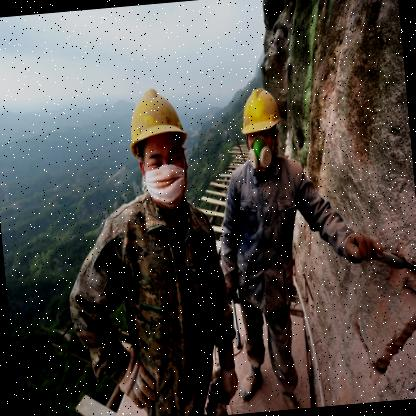capacete: (125, 85, 193, 209), (238, 85, 286, 170)
sem_colete_refletivo: (60, 185, 244, 415), (212, 150, 324, 306)
